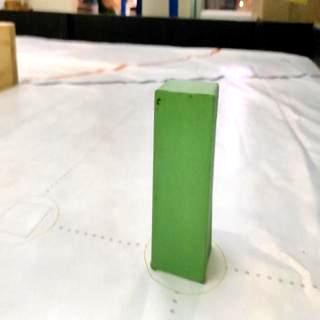greenbox: (148, 74, 220, 285)
